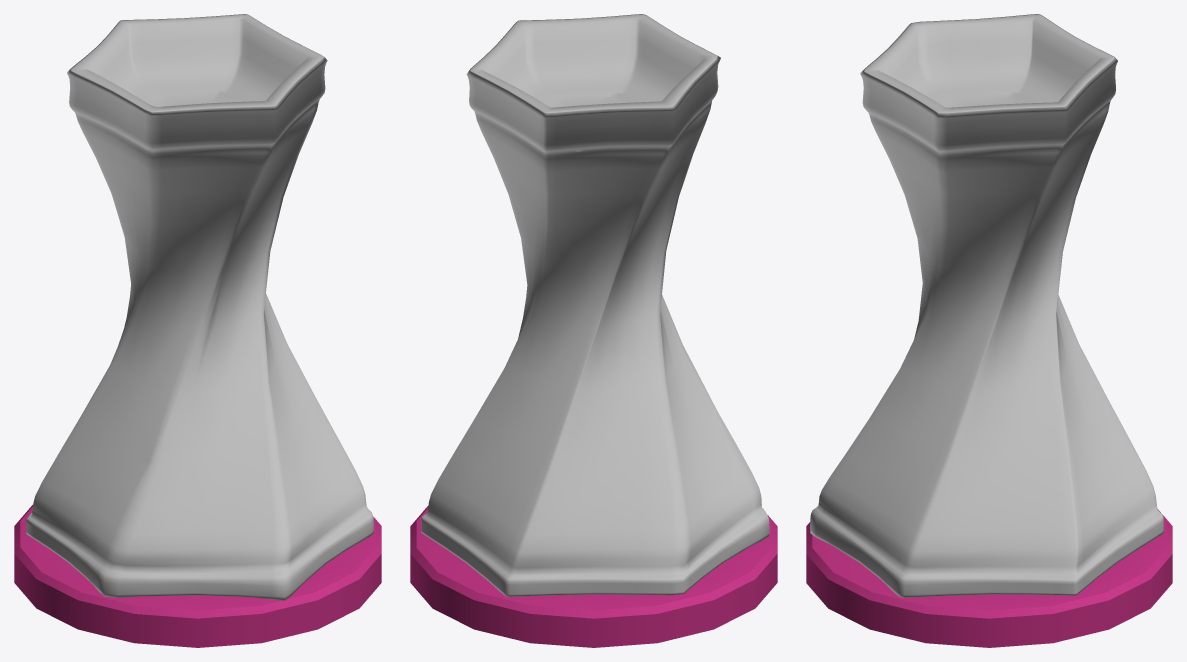
The model's file is rook.glb.
3 views of the same model, side by side, from view 1: azimuth 30°, elevation 25°; view 2: azimuth 150°, elevation 25°; view 3: azimuth 270°, elevation 25° (orthographic).
Visible parts, largest first — view 1: Star011, Cylinder026; view 2: Star011, Cylinder026; view 3: Star011, Cylinder026.
Part boxes in pixels (<box>): Star011: <box>26,14,373,600</box>; Cylinder026: <box>14,505,381,647</box>; Star011: <box>421,14,769,596</box>; Cylinder026: <box>410,506,777,647</box>; Star011: <box>810,14,1163,597</box>; Cylinder026: <box>806,509,1172,647</box>.
Size of the model in its own units: 0.0377 by 0.0563 by 0.0371.
